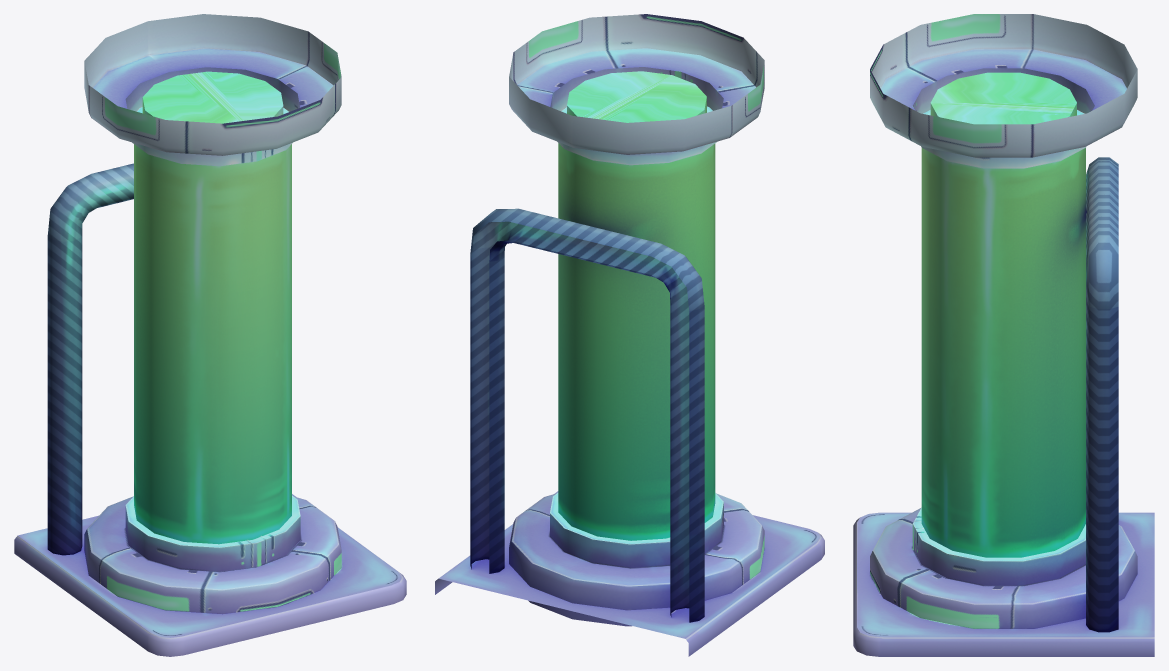
The model's file is Exp.fbx.
The picture shows the model from 3 angles, left to right: view 1: azimuth 30°, elevation 25°; view 2: azimuth 150°, elevation 25°; view 3: azimuth 270°, elevation 25°; orthographic projection. The views are drawn at different scales.
Visible parts, largest first — view 1: experimento, exp_tubo_interior; view 2: experimento, exp_tubo_interior; view 3: experimento, exp_tubo_interior.
Part boxes in pixels (x1,y1,x2,y2): experimento: (14,14,406,656); exp_tubo_interior: (142,71,283,123); experimento: (435,14,824,656); exp_tubo_interior: (567,71,706,122); experimento: (853,14,1154,656); exp_tubo_interior: (930,72,1076,124).
Size of the model in its own units: 330 by 627 by 328.
